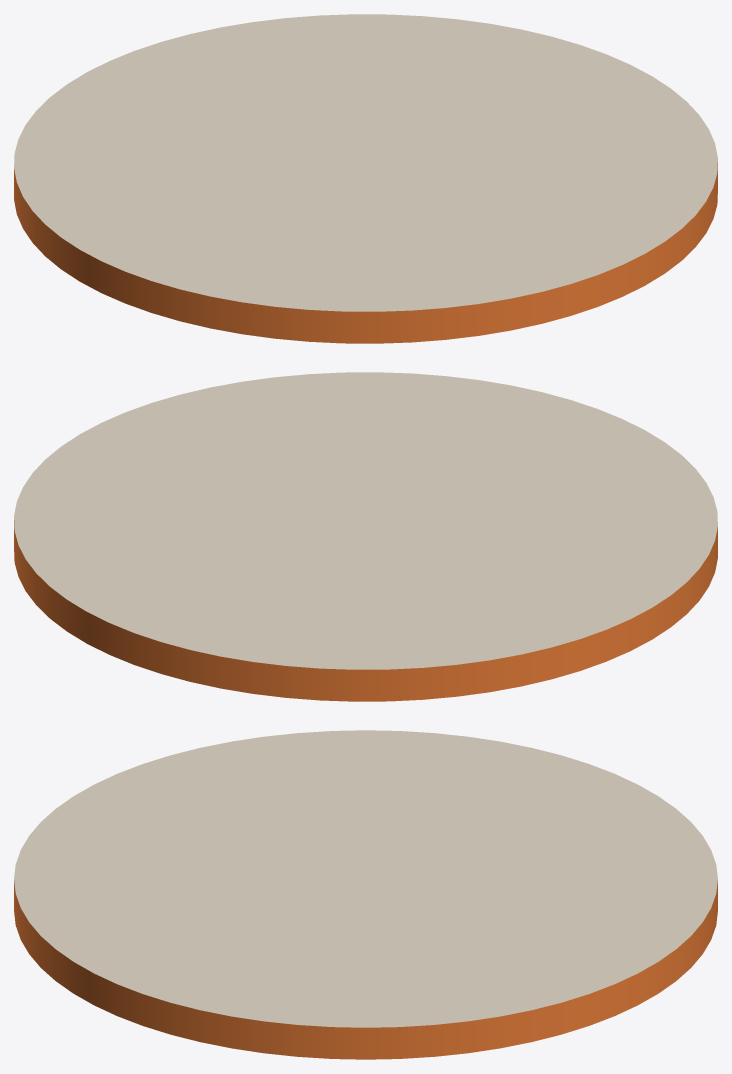
File: ar_base_platform.glb
3 views of the same model, one above another, from view 1: azimuth 30°, elevation 25°; view 2: azimuth 150°, elevation 25°; view 3: azimuth 270°, elevation 25° (orthographic).
Visible parts, largest first — view 1: platform; view 2: platform; view 3: platform.
Part boxes in pixels (x1=…): platform: x1=14, y1=14, x2=717, y2=343; platform: x1=14, y1=372, x2=717, y2=701; platform: x1=14, y1=730, x2=717, y2=1059.
Size of the model in its own units: 100 by 5 by 100.
